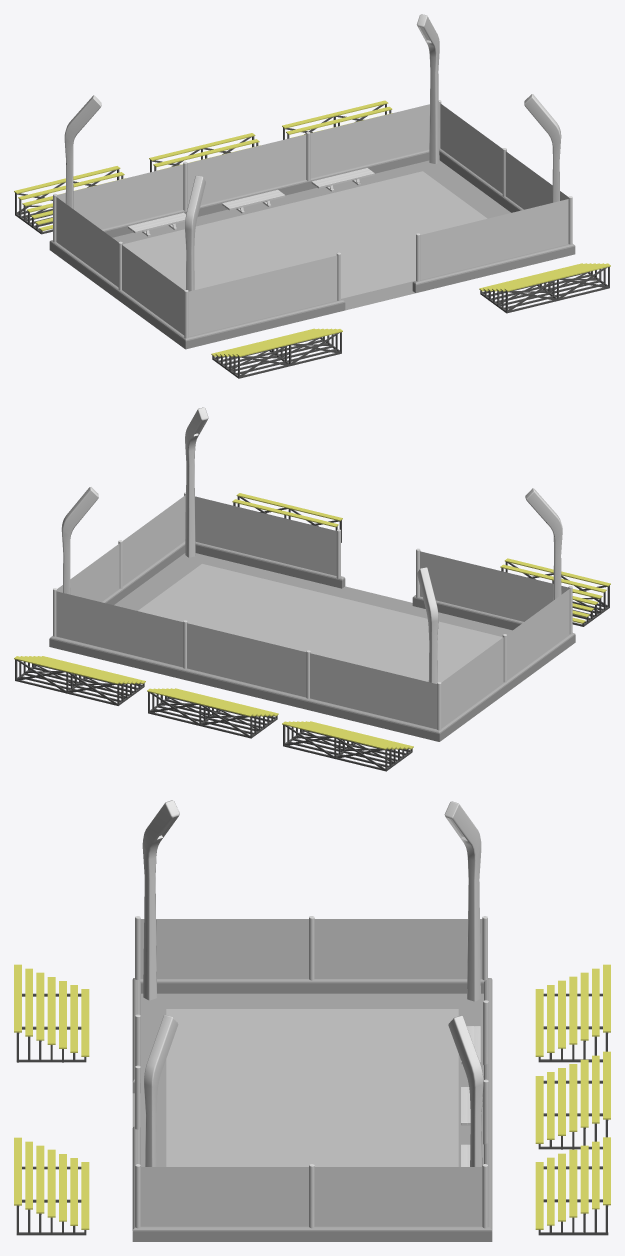
File: Stadium.fbx
3 renders of one model, top to bottom at view 1: azimuth 30°, elevation 25°; view 2: azimuth 150°, elevation 25°; view 3: azimuth 270°, elevation 25°, orthographic. The views are drawn at different scales.
Visible parts, largest first — view 1: Frame, Field, Border, LightStand, Stadium, Bleachers.004, Bleachers.003, FrameStands, Bleachers.001, Benches, Bleachers.005, Bleachers.002; view 2: Frame, Field, Border, LightStand, Stadium, Bleachers.001, Bleachers.002, Bleachers.005, Bleachers.004, FrameStands, Bleachers.003; view 3: Field, Frame, Border, LightStand, Stadium, Bleachers.002, Bleachers.003, Bleachers.004, Bleachers.001, Bleachers.005, FrameStands, Benches.
Boxes of the visible parts, <box> form: Frame: <box>56,103,568,336</box>; Field: <box>123,171,487,298</box>; Border: <box>49,148,575,349</box>; LightStand: <box>64,14,561,291</box>; Stadium: <box>112,160,510,310</box>; Bleachers.004: <box>211,328,342,378</box>; Bleachers.003: <box>479,263,610,313</box>; FrameStands: <box>53,100,572,338</box>; Bleachers.001: <box>14,166,125,234</box>; Benches: <box>128,168,374,236</box>; Bleachers.005: <box>149,133,260,172</box>; Bleachers.002: <box>282,100,392,139</box>; Frame: <box>56,495,569,729</box>; Field: <box>138,564,502,682</box>; Border: <box>49,541,575,741</box>; LightStand: <box>61,407,562,683</box>; Stadium: <box>114,553,512,636</box>; Bleachers.001: <box>282,721,413,771</box>; Bleachers.002: <box>14,656,145,705</box>; Bleachers.005: <box>147,688,278,738</box>; Bleachers.004: <box>500,558,610,626</box>; FrameStands: <box>53,492,572,730</box>; Bleachers.003: <box>232,493,342,542</box>; Field: <box>166,1009,458,1166</box>; Frame: <box>140,919,482,1226</box>; Border: <box>132,978,492,1241</box>; LightStand: <box>142,800,483,1166</box>; Stadium: <box>132,993,483,1166</box>; Bleachers.002: <box>535,1137,610,1235</box>; Bleachers.003: <box>14,1137,89,1235</box>; Bleachers.004: <box>14,964,89,1062</box>; Bleachers.001: <box>535,964,610,1062</box>; Bleachers.005: <box>535,1051,610,1149</box>; FrameStands: <box>135,916,488,1228</box>; Benches: <box>461,1026,480,1166</box>.
Size of the model in its own units: 2650 by 1016 by 2656.
